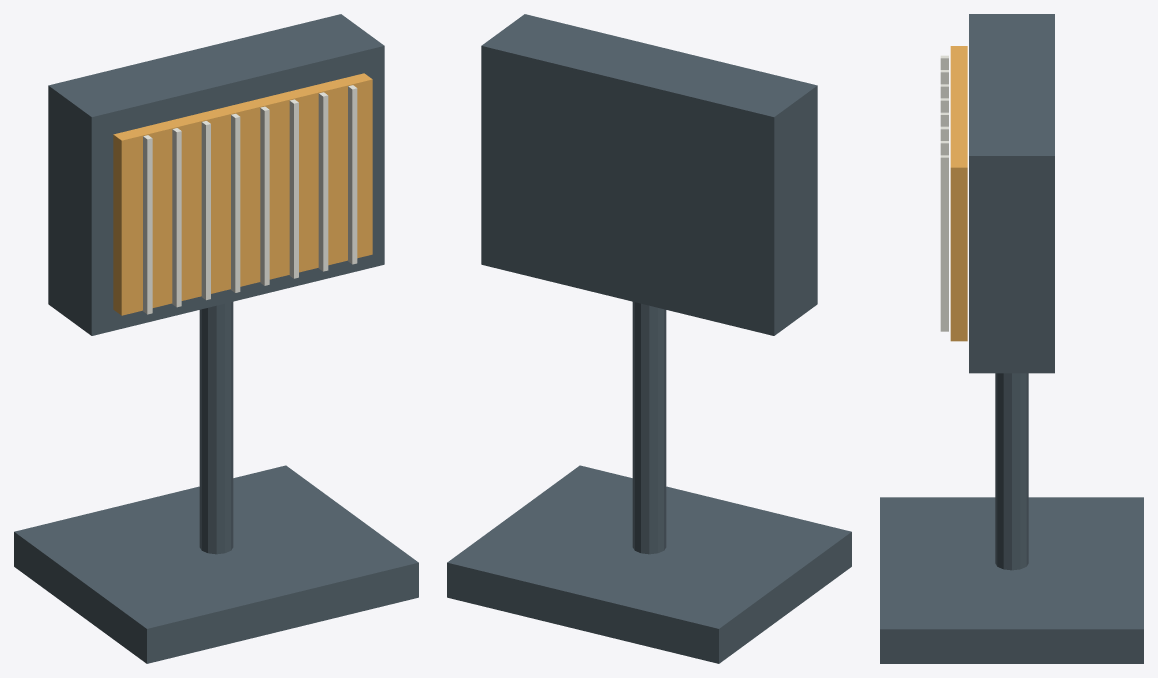
Rendered from american-football-stadium-kit-sideline-heater-13652148__22333.glb.
3 views of the same model, side by side, from view 1: azimuth 30°, elevation 25°; view 2: azimuth 150°, elevation 25°; view 3: azimuth 270°, elevation 25° (orthographic).
Visible parts, largest first — view 1: sideline-heater; view 2: sideline-heater; view 3: sideline-heater.
Part boxes in pixels (x1=…): sideline-heater: x1=14, y1=14, x2=418, y2=663; sideline-heater: x1=447, y1=14, x2=851, y2=663; sideline-heater: x1=880, y1=14, x2=1143, y2=663.
Bounding box in the file's own units: 0.7 × 1.18 × 0.55.
